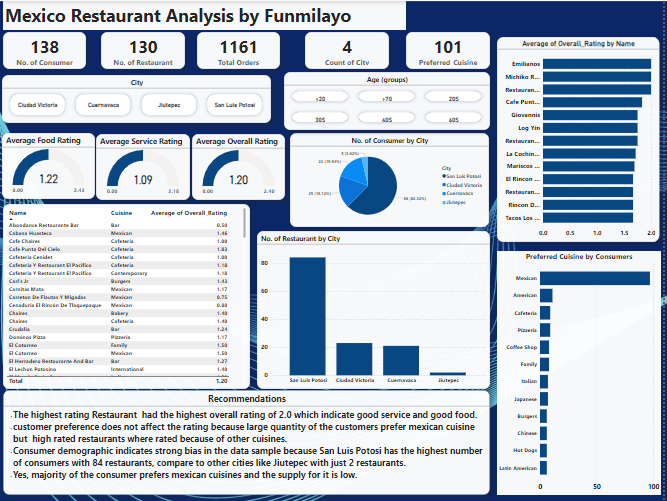

This screenshot's page, from the dashboard's own definition file:
{"tool":"powerbi","page":{"name":"Rating","canvas":[2000,1500],"ordinal":0},"visuals":[{"type":"card","fields":{"Values":["CountNonNull(consumers.Consumer_ID)"]},"box":[18,93,249,111],"z":0},{"type":"card","fields":{"Values":["CountNonNull(restaurants.Restaurant_ID)"]},"box":[312,93,252,111],"z":1000},{"type":"card","fields":{"Values":["CountNonNull(ratings.Consumer_ID)"]},"box":[600,93,249,111],"z":2000},{"type":"card","fields":{"Values":["Count(restaurants.City)"]},"box":[924,93,252,111],"z":3000},{"type":"gauge","fields":{"Y":["Avg(ratings.Food_Rating)"]},"box":[15,396,279,198],"z":4000},{"type":"gauge","fields":{"Y":["Avg(ratings.Service_Rating)"]},"box":[297,399,282,198],"z":5000},{"type":"gauge","fields":{"Y":["Avg(ratings.Overall_Rating)"]},"box":[585,399,279,198],"z":6000},{"type":"card","fields":{"Values":["Count(consumer_preferences.Preferred_Cuisine)"]},"box":[1227,93,252,111],"z":7000},{"type":"clusteredBarChart","fields":{"Category":["restaurants.Name"],"Y":["Avg(ratings.Overall_Rating)"]},"box":[1500,108.5,487.2,614.9],"z":8000},{"type":"pieChart","fields":{"Y":["CountNonNull(consumers.Consumer_ID)"],"Category":["consumers.City"]},"box":[879,396,597,282],"z":9000},{"type":"tableEx","fields":{"Values":["restaurants.Name","restaurant_cuisines.Cuisine","Avg(ratings.Overall_Rating)"]},"box":[18,609,741,555],"z":10000},{"type":"advancedSlicerVisual","fields":{"Values":["restaurants.City"]},"box":[15,222,807,144],"z":11000},{"type":"advancedSlicerVisual","fields":{"Values":["consumers.Age (groups)"]},"box":[861,213,618,174],"z":12000},{"type":"columnChart","title":"No. of Restaurant by City","fields":{"Category":["restaurants.City"],"Y":["CountNonNull(restaurants.Restaurant_ID)"]},"box":[780,690,699,474],"z":13000},{"type":"barChart","title":"Preferred Cuisine by Consumers","fields":{"Category":["consumer_preferences.Preferred_Cuisine"],"Y":["CountNonNull(consumer_preferences.Consumer_ID)"]},"box":[1500,750,492,732],"z":14000},{"type":"textbox","box":[18,0,1209,87],"z":15000},{"type":"textbox","title":"Recommendations","box":[18,1167,1461,315],"z":16000}]}

Visuals, with their boxes in screenshot pixels (x1, y1, x2, y2), scaled from the page's 2000x1500 canvas onto the 667x501 screenshot:
card - CountNonNull(consumers.Consumer_ID): region(6, 31, 89, 68)
card - CountNonNull(restaurants.Restaurant_ID): region(104, 31, 188, 68)
card - CountNonNull(ratings.Consumer_ID): region(200, 31, 283, 68)
card - Count(restaurants.City): region(308, 31, 392, 68)
gauge - Avg(ratings.Food_Rating): region(5, 132, 98, 198)
gauge - Avg(ratings.Service_Rating): region(99, 133, 193, 199)
gauge - Avg(ratings.Overall_Rating): region(195, 133, 288, 199)
card - Count(consumer_preferences.Preferred_Cuisine): region(409, 31, 493, 68)
clusteredBarChart - restaurants.Name x Avg(ratings.Overall_Rating): region(500, 36, 663, 242)
pieChart - CountNonNull(consumers.Consumer_ID) x consumers.City: region(293, 132, 492, 226)
tableEx - restaurants.Name x restaurant_cuisines.Cuisine: region(6, 203, 253, 389)
advancedSlicerVisual - restaurants.City: region(5, 74, 274, 122)
advancedSlicerVisual - consumers.Age (groups): region(287, 71, 493, 129)
"No. of Restaurant by City" columnChart: region(260, 230, 493, 389)
"Preferred Cuisine by Consumers" barChart: region(500, 251, 664, 495)
textbox: region(6, 0, 409, 29)
"Recommendations" textbox: region(6, 390, 493, 495)
